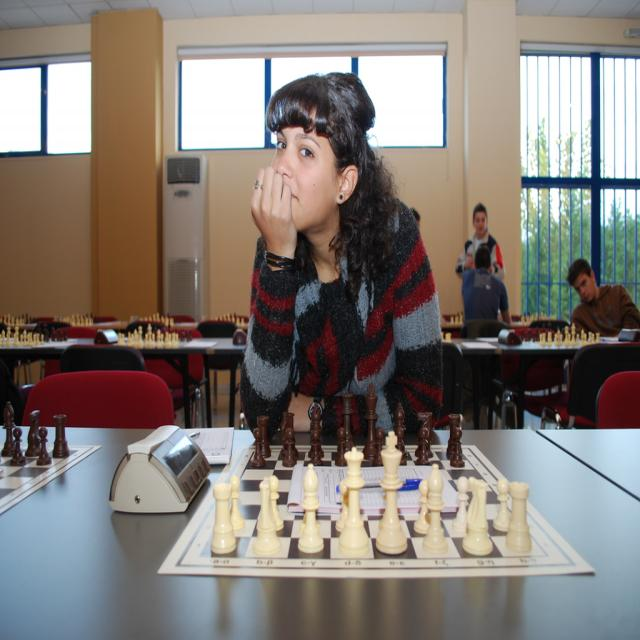chair: (21, 368, 177, 429), (564, 341, 640, 427), (440, 341, 472, 429), (61, 344, 146, 374), (595, 370, 640, 426), (462, 319, 508, 339)
desk: (0, 428, 639, 639)
person: (240, 72, 446, 443), (567, 259, 640, 336), (461, 243, 513, 327), (455, 202, 505, 280), (0, 356, 26, 427)
